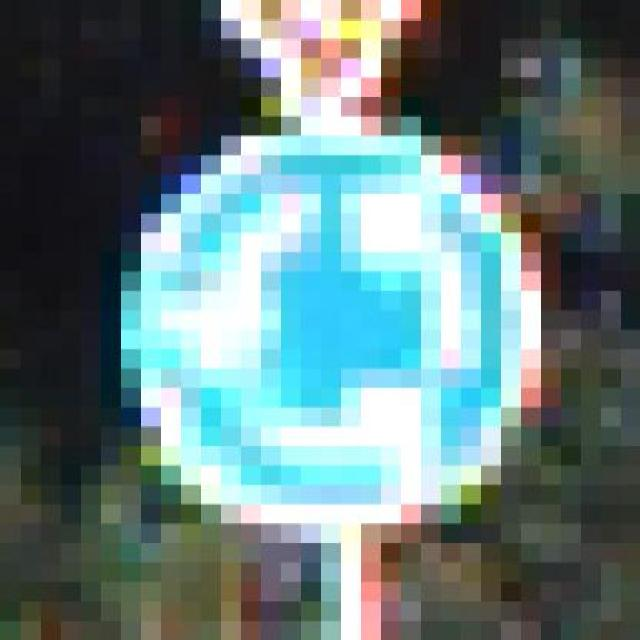Round-About: (40, 97, 620, 543)
